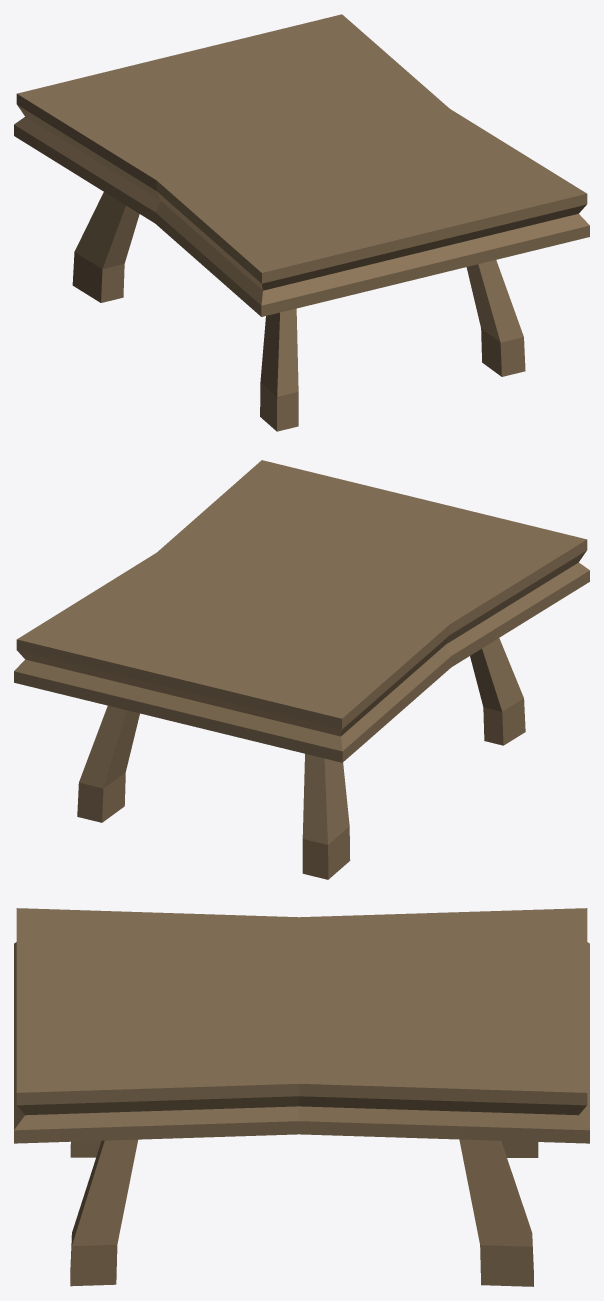
Rendered from Coffee Table.fbx.
3 views of the same model, one above another, from view 1: azimuth 30°, elevation 25°; view 2: azimuth 150°, elevation 25°; view 3: azimuth 270°, elevation 25° (orthographic). The views are drawn at different scales.
Parts seen in each view (by area): view 1: CoffeeTable; view 2: CoffeeTable; view 3: CoffeeTable.
Part boxes in pixels (<box>): CoffeeTable: <box>14,14,589,431</box>; CoffeeTable: <box>14,460,589,879</box>; CoffeeTable: <box>14,908,589,1286</box>.
Size of the model in its own units: 46.19 by 24.86 by 60.27.
